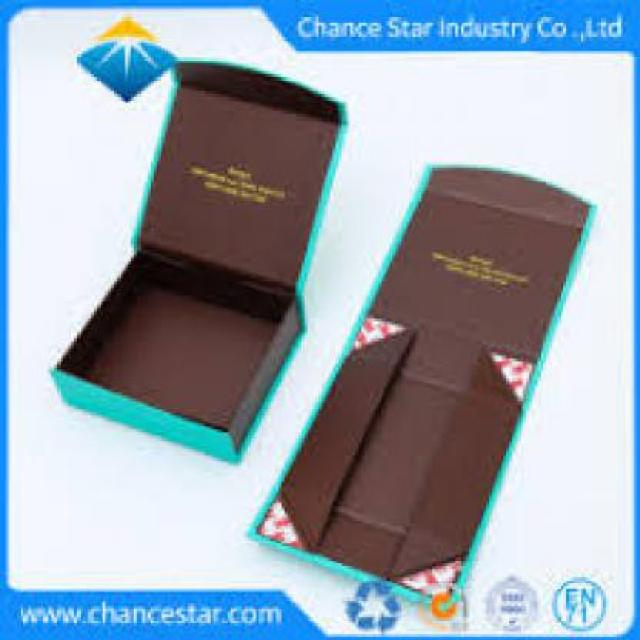CARDBOARD: (242, 159, 592, 604), (40, 54, 345, 463)
